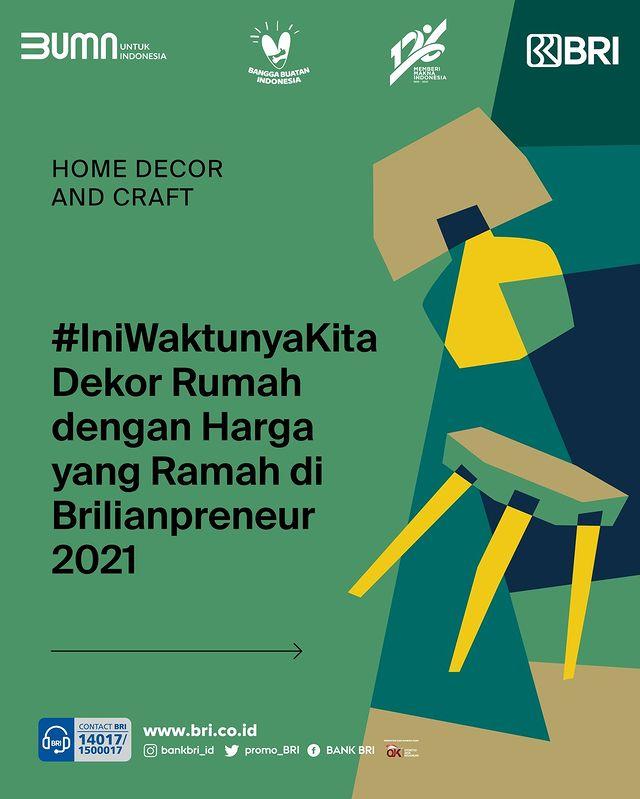ojk: (385, 744, 424, 768)
